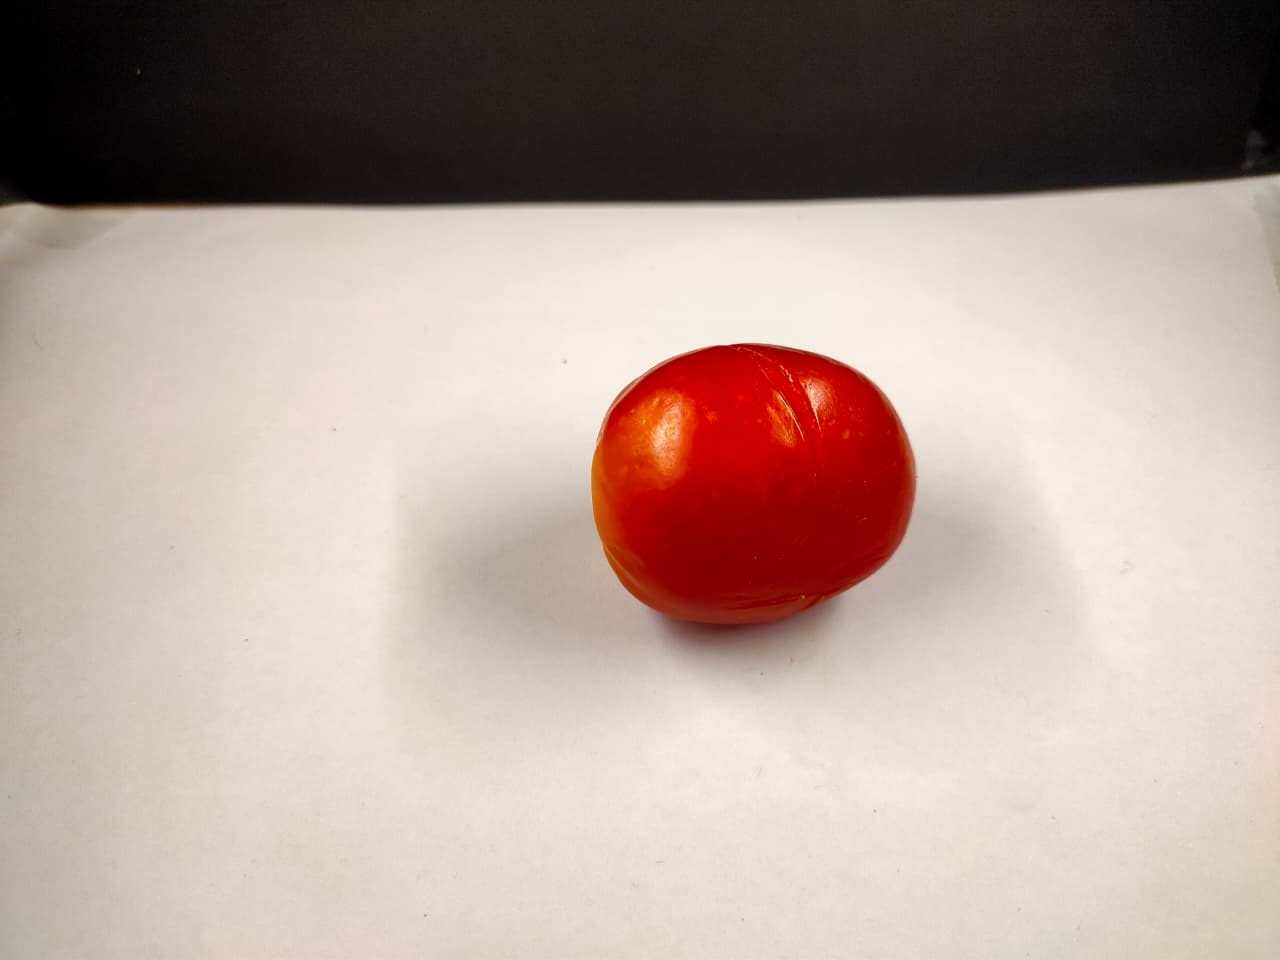damaged: (587, 357, 927, 625)
